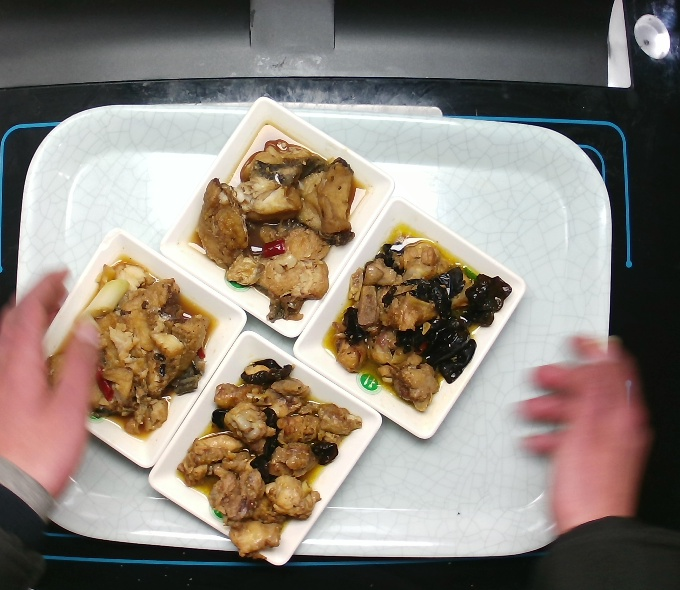wcq-MuErRouKuai: (172, 358, 355, 560), (328, 230, 516, 416)
wcq-YuKuai: (199, 142, 358, 323), (53, 262, 208, 441)
